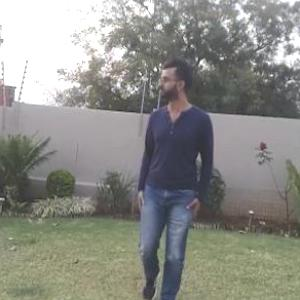follow: (126, 50, 218, 299)
